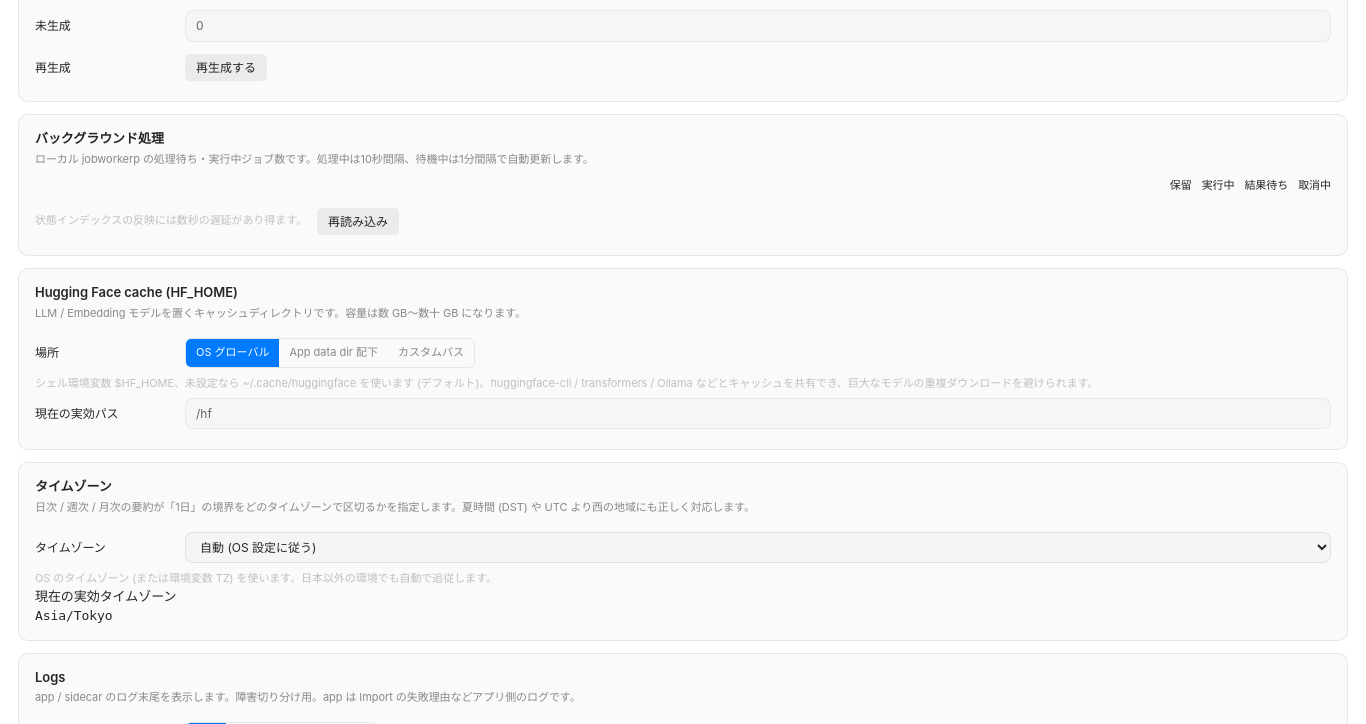
Test: Settings view switching › intercepts the view switch when the basic view has unsaved changes
(page scrolled)
Expected: the field showing "/hf" next to "現在の実効パス" is shown, [185, 398, 1331, 429]
Click the button "App data dir 配下". click: {"x": 334, "y": 353}
box: [280, 339, 388, 367]
(page scrolled)
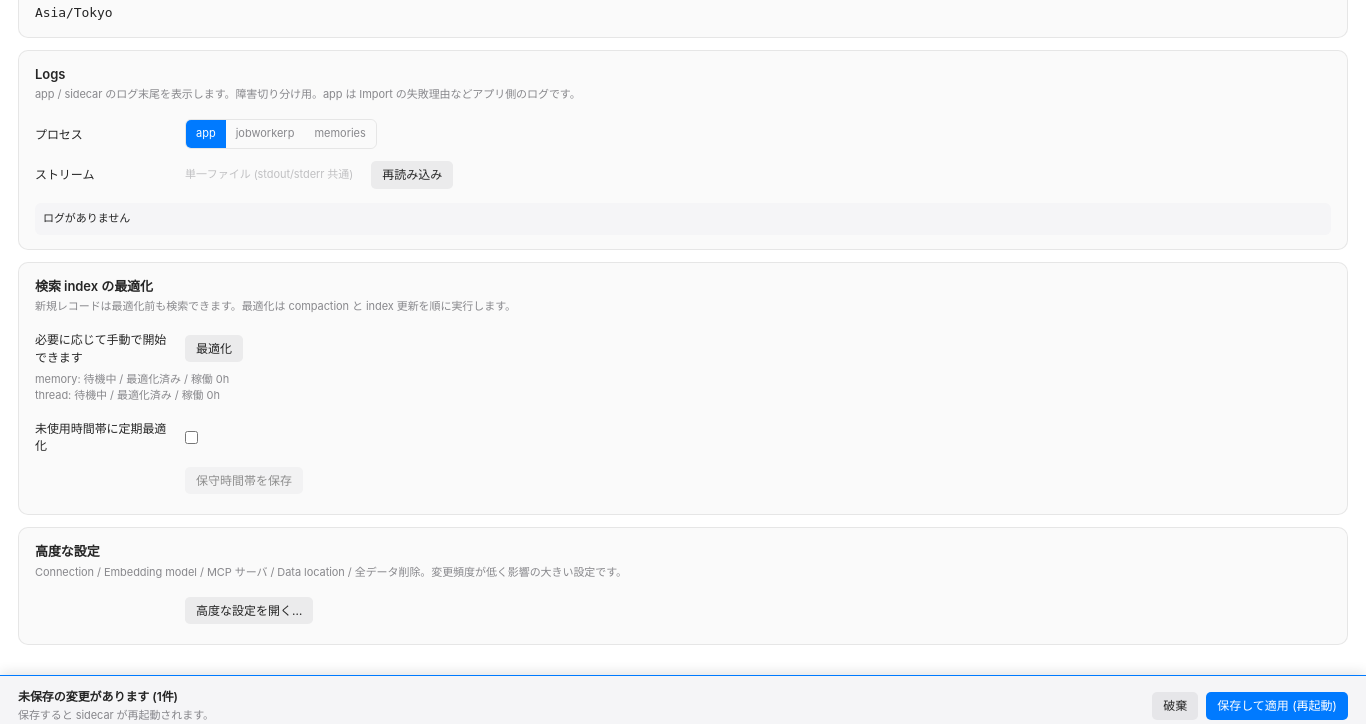
Expected: the text "未保存の変更があります (1件)" is shown, [18, 689, 178, 704]
# Attempt to open advanced → confirm dialog, still on basic.
Click the button "高度な設定を開く…". click: {"x": 249, "y": 611}
box: [185, 597, 313, 624]
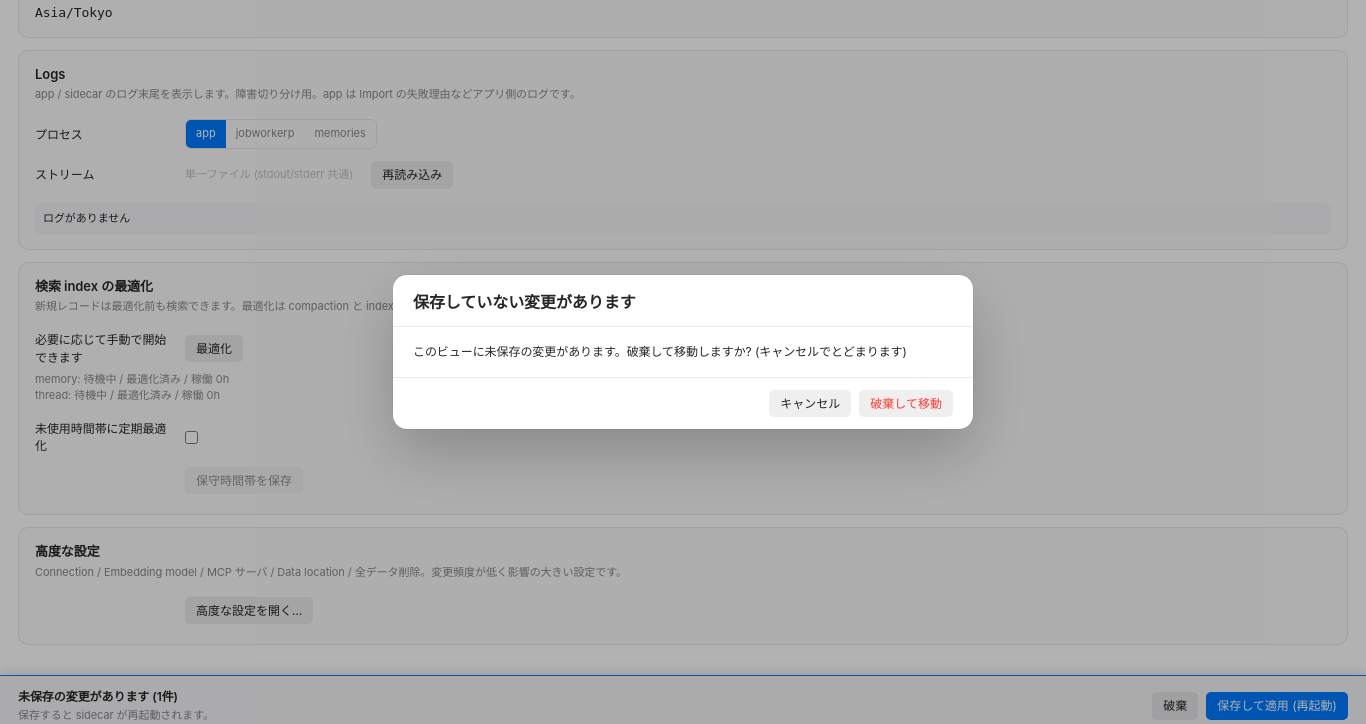
Expected: the text "保存していない変更があります" is shown, [413, 292, 636, 312]
# キャンセル keeps us on basic with the edit intact.
Click the button "キャンセル". click: {"x": 810, "y": 403}
box: [769, 390, 851, 417]
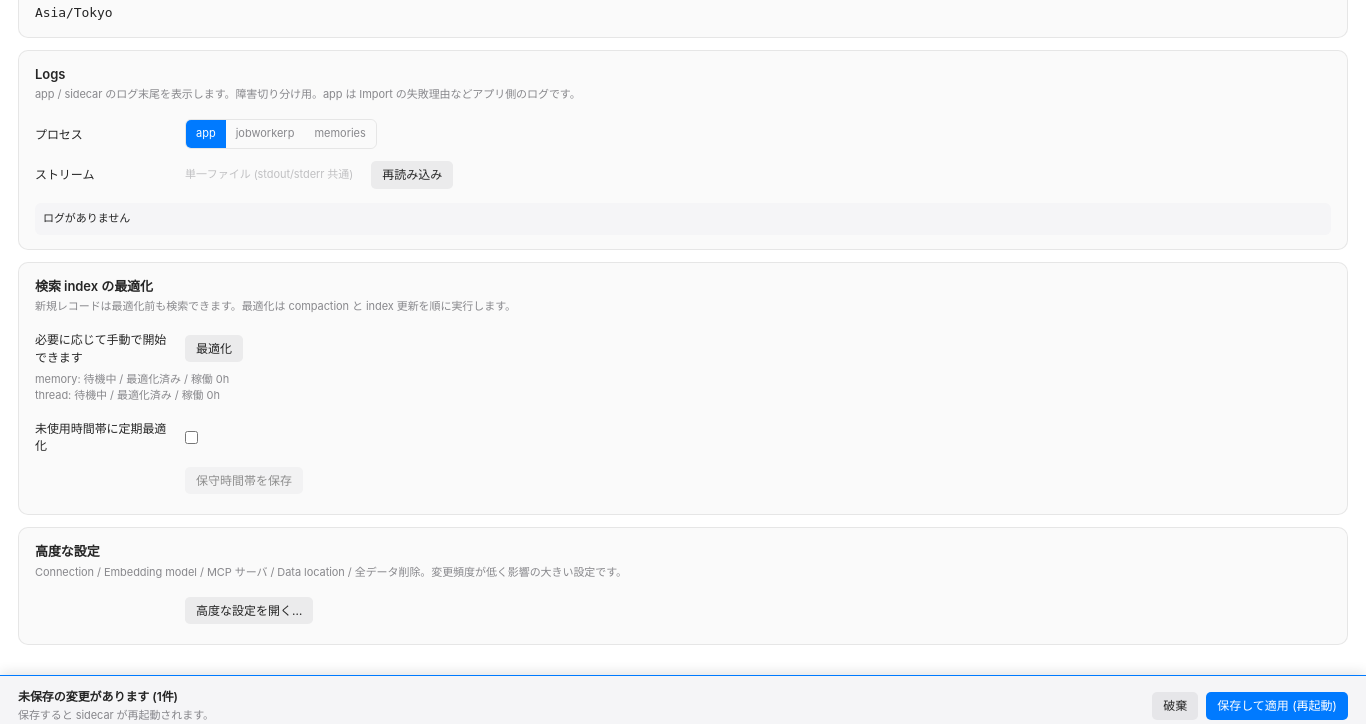
Expected: the text "未保存の変更があります (1件)" is shown, [18, 689, 178, 704]
Expected: the text "保存していない変更があります" is gone
